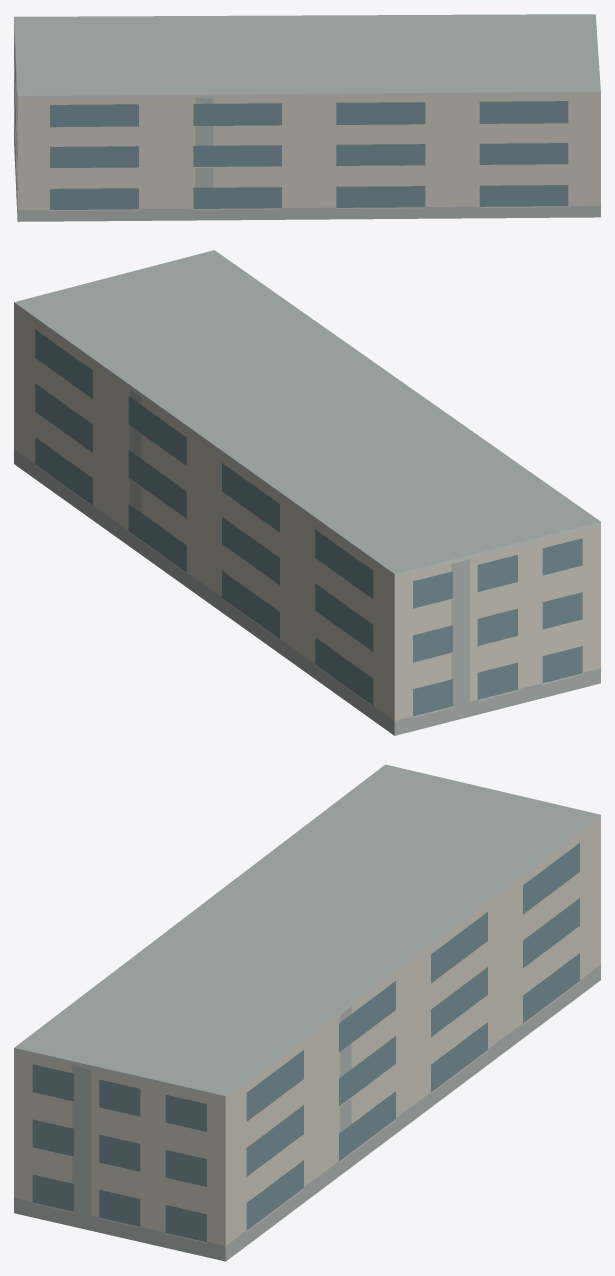
File: survey-upis-32962350.glb
The picture shows the model from 3 angles, top to bottom: view 1: azimuth 30°, elevation 25°; view 2: azimuth 150°, elevation 25°; view 3: azimuth 270°, elevation 25°; orthographic projection. The views are drawn at different scales.
Visible parts, largest first — view 1: survey-upis-32962350.tmp; view 2: survey-upis-32962350.tmp; view 3: survey-upis-32962350.tmp.
Part boxes in pixels (x1,y1,x2,y2): survey-upis-32962350.tmp: (14, 14, 600, 221); survey-upis-32962350.tmp: (14, 250, 600, 735); survey-upis-32962350.tmp: (14, 764, 600, 1261).
Size of the model in its own units: 39.37 by 9.15 by 29.44.
